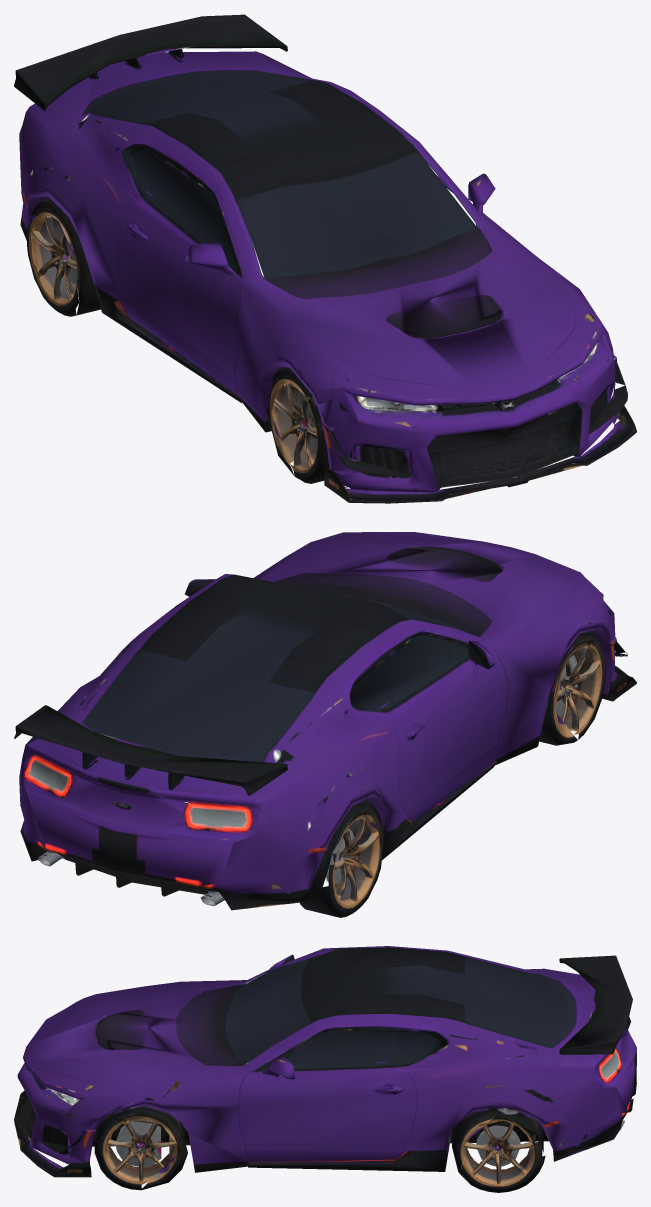
The model's file is mahal.glb.
3 views of the same model, one above another, from view 1: azimuth 30°, elevation 25°; view 2: azimuth 150°, elevation 25°; view 3: azimuth 270°, elevation 25° (orthographic). The views are drawn at different scales.
Visible parts, largest first — view 1: tripo_3ba43740_982c_46c0_a71a_83a8a05ac528; view 2: tripo_3ba43740_982c_46c0_a71a_83a8a05ac528; view 3: tripo_3ba43740_982c_46c0_a71a_83a8a05ac528.
Boxes of the visible parts, x1=… form: tripo_3ba43740_982c_46c0_a71a_83a8a05ac528: x1=14, y1=14, x2=636, y2=503; tripo_3ba43740_982c_46c0_a71a_83a8a05ac528: x1=14, y1=532, x2=636, y2=917; tripo_3ba43740_982c_46c0_a71a_83a8a05ac528: x1=14, y1=946, x2=636, y2=1192.
Size of the model in its own units: 0.4379 by 0.2793 by 0.9995.
Materials: 5 (5 with a texture image).
